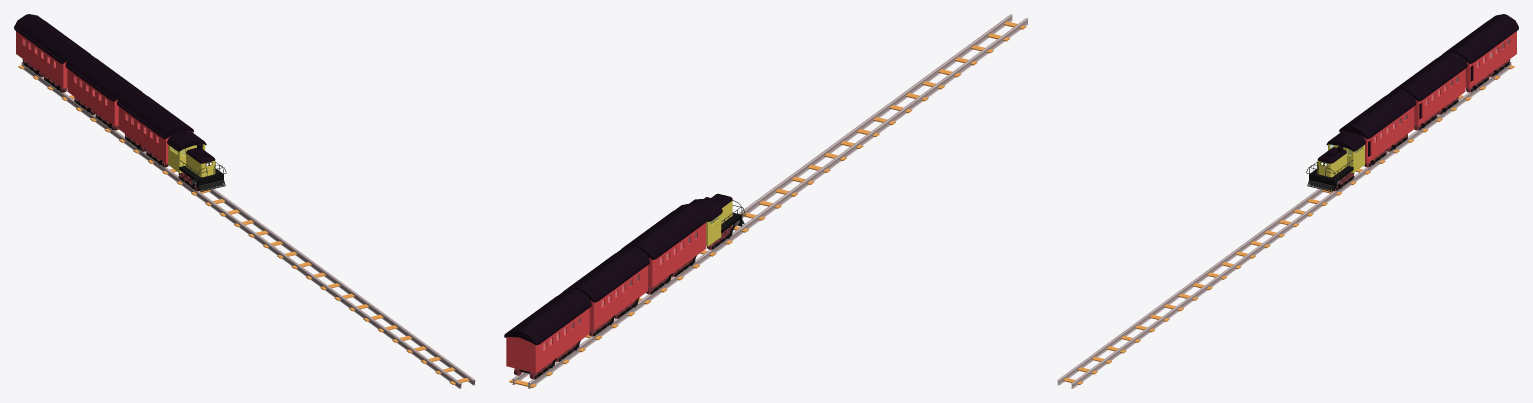
File: tren_with_animation.glb
The picture shows the model from 3 angles, left to right: view 1: azimuth 30°, elevation 25°; view 2: azimuth 150°, elevation 25°; view 3: azimuth 330°, elevation 25°; orthographic projection. The views are drawn at different scales.
Parts seen in each view (by area): view 1: linea_de_tren, pCube4, pCube4.001, pCube4.002, pCube3, pCube1, pCube2; view 2: linea_de_tren, pCube4.002, pCube4, pCube4.001, pCube3; view 3: linea_de_tren, pCube4, pCube4.001, pCube4.002, pCube3, pCube1, pCube2.
Part boxes in pixels (x1,y1,x2,y2): linea_de_tren: [18, 62, 475, 388]; pCube4: [117, 89, 193, 163]; pCube4.001: [65, 51, 141, 125]; pCube4.002: [14, 14, 90, 88]; pCube3: [167, 131, 206, 172]; pCube1: [186, 143, 215, 177]; pCube2: [179, 165, 223, 190]; linea_de_tren: [509, 14, 1028, 388]; pCube4.002: [504, 288, 591, 373]; pCube4: [621, 203, 708, 287]; pCube4.001: [563, 246, 649, 330]; pCube3: [689, 199, 722, 246]; linea_de_tren: [1057, 62, 1514, 388]; pCube4: [1339, 89, 1416, 163]; pCube4.001: [1391, 51, 1467, 125]; pCube4.002: [1443, 14, 1518, 88]; pCube3: [1326, 131, 1365, 173]; pCube1: [1317, 145, 1346, 177]; pCube2: [1309, 165, 1353, 190].
Size of the model in its own units: 1.07 by 1.67 by 25.71.
